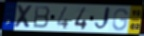4: (73, 6, 89, 31), (56, 6, 70, 30)
B: (32, 5, 52, 30)
G: (111, 8, 129, 32)
J: (93, 6, 112, 32)
X: (13, 4, 34, 29)
